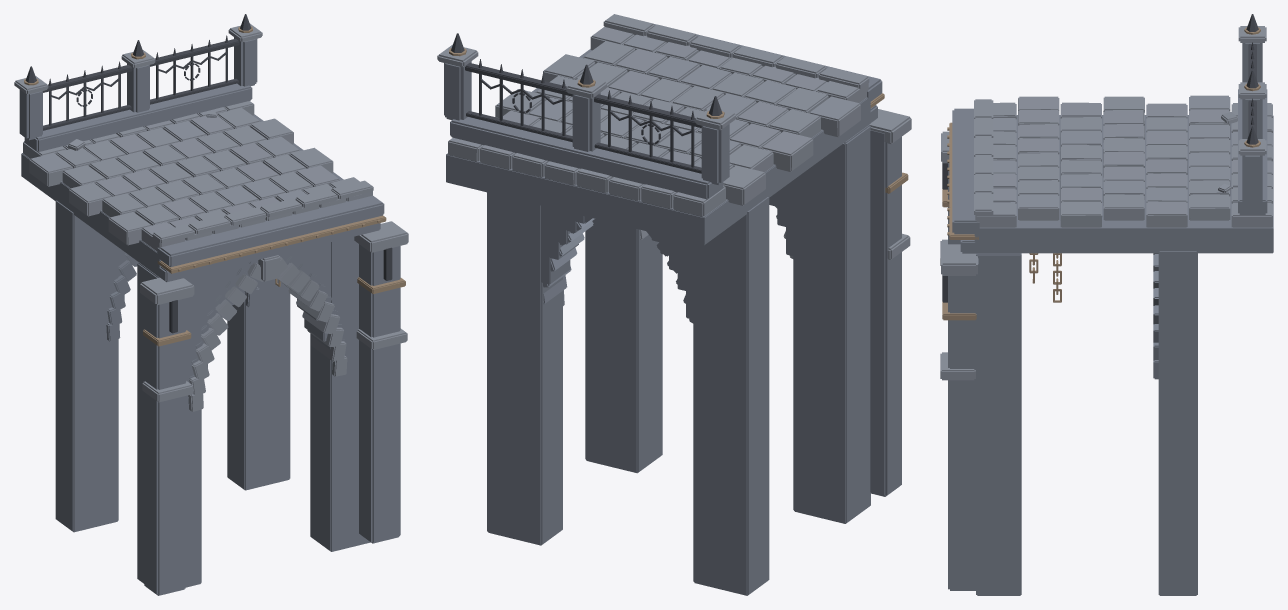
The model's file is gothic_skybridge_bay.glb.
3 renders of one model, left to right at view 1: azimuth 30°, elevation 25°; view 2: azimuth 150°, elevation 25°; view 3: azimuth 270°, elevation 25°, orthographic. The views are drawn at different scales.
Visible parts, largest first — view 1: DeckCarvedStone, DeckSlate, DeckWroughtIron, DeckAncientBronze; view 2: DeckCarvedStone, DeckSlate, DeckWroughtIron; view 3: DeckCarvedStone, DeckSlate, DeckAncientBronze, DeckWroughtIron.
Part boxes in pixels (bbox=[...]): DeckCarvedStone: bbox=[19, 37, 400, 595]; DeckSlate: bbox=[14, 23, 408, 411]; DeckWroughtIron: bbox=[25, 14, 392, 333]; DeckAncientBronze: bbox=[24, 26, 405, 346]; DeckCarvedStone: bbox=[444, 23, 901, 595]; DeckSlate: bbox=[437, 14, 911, 259]; DeckWroughtIron: bbox=[451, 33, 722, 173]; DeckCarvedStone: bbox=[948, 43, 1273, 595]; DeckSlate: bbox=[940, 26, 1272, 380]; DeckAncientBronze: bbox=[942, 27, 1260, 320]; DeckWroughtIron: bbox=[942, 14, 1258, 302].
Bounding box in the file's own units: 4.96 × 8.13 × 5.24.
